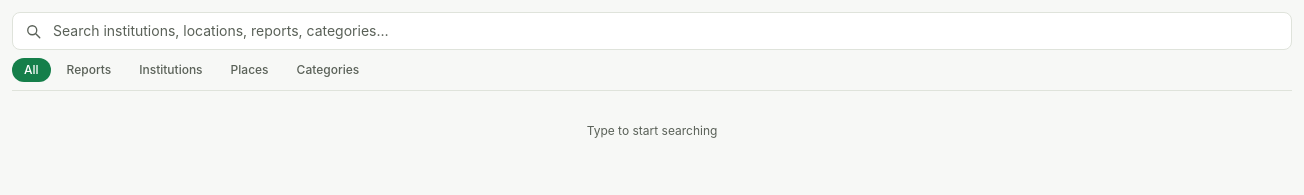
Test: GlobalSearch component › updates query and executes debounced search
Type "hospital" into the dropdown at (652, 31), box [12,12,1292,50]
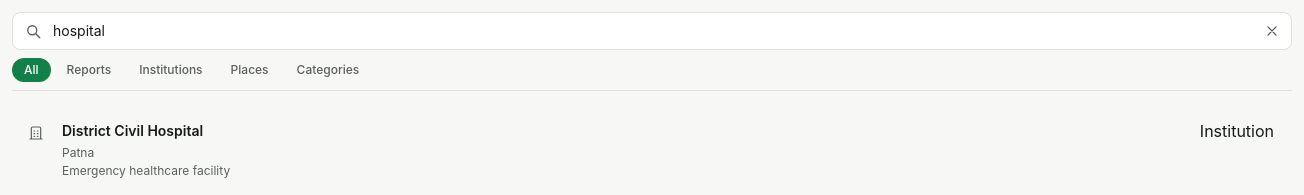
Check: the text "District Civil Hospital" is shown, box [62,121,203,141]
